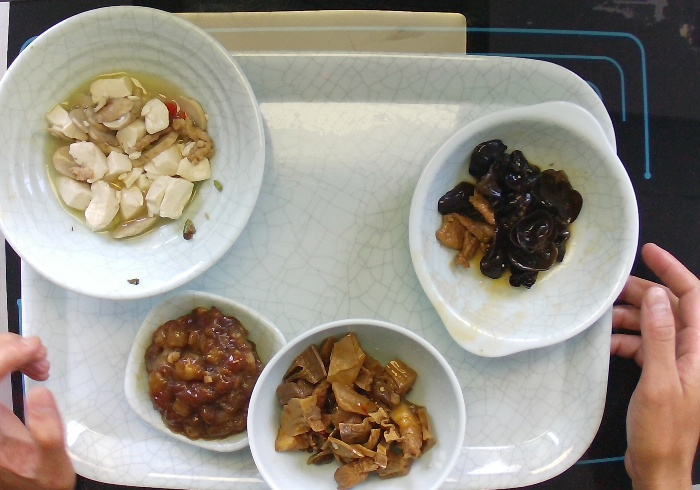JYsf-Fan_Wan: (244, 314, 469, 490)
JYsf-Shuang_Er_Wan: (406, 94, 643, 360)
JYsf-Si_Fang_Die: (119, 277, 292, 461)
JYsf-Xiao_Tang_Wan: (1, 1, 271, 303)
